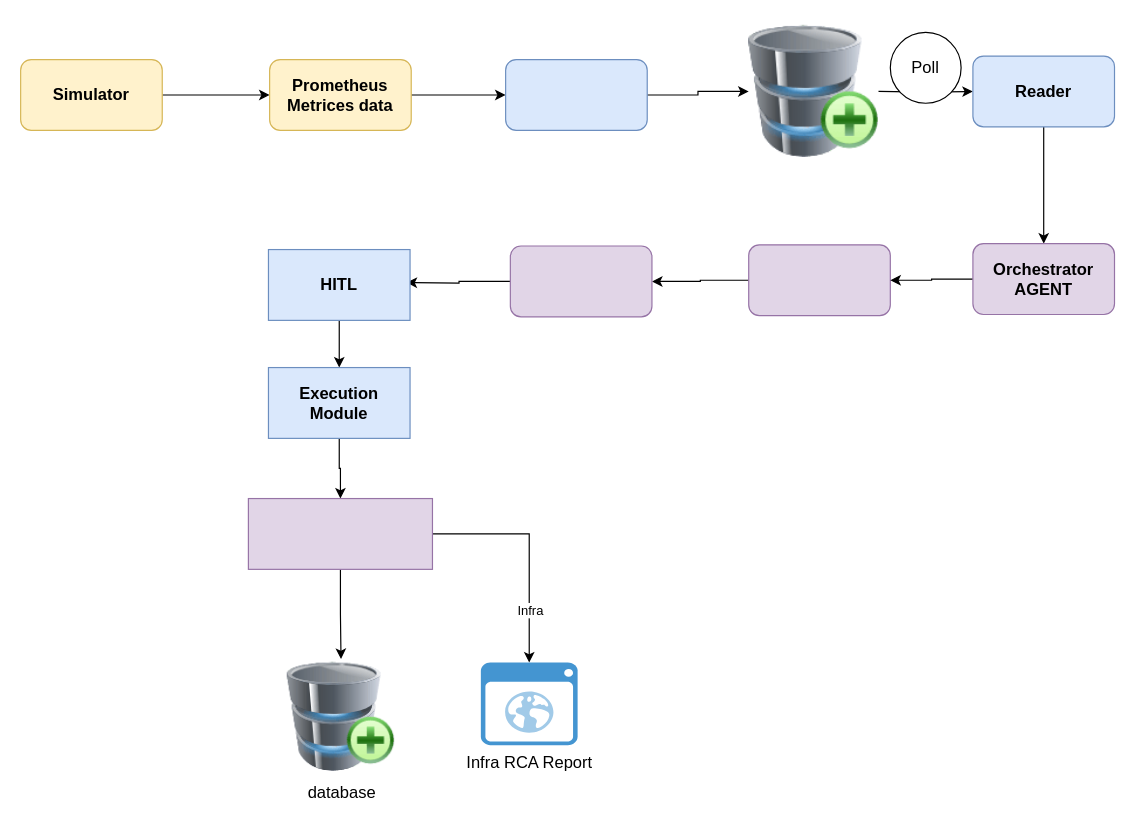
This 1135x822 diagram has some shape labels left out. Each missing label, with the centre of its shape:
"Promethueus metrices _reader" goes at (575,94).
"Promethus_Data pattern_Analyzer AGENT" goes at (819,280).
"RCA AGENT" goes at (580,281).
"Reporting AGENT" goes at (339,533).
